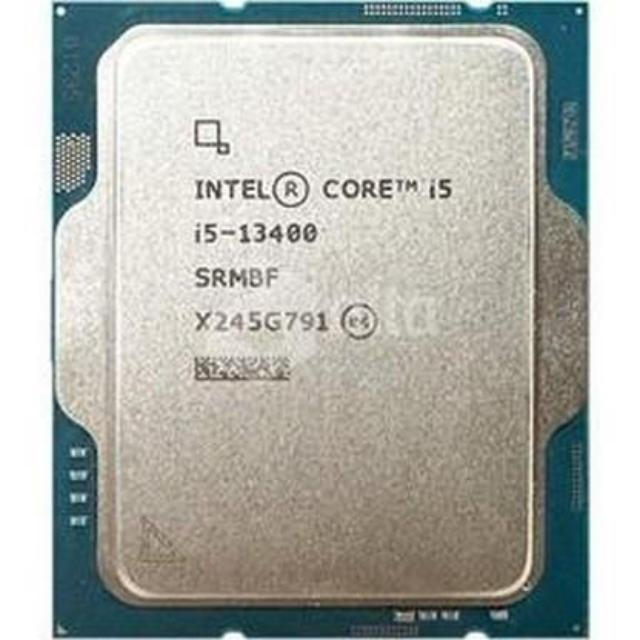CPU: (56, 0, 588, 640)
